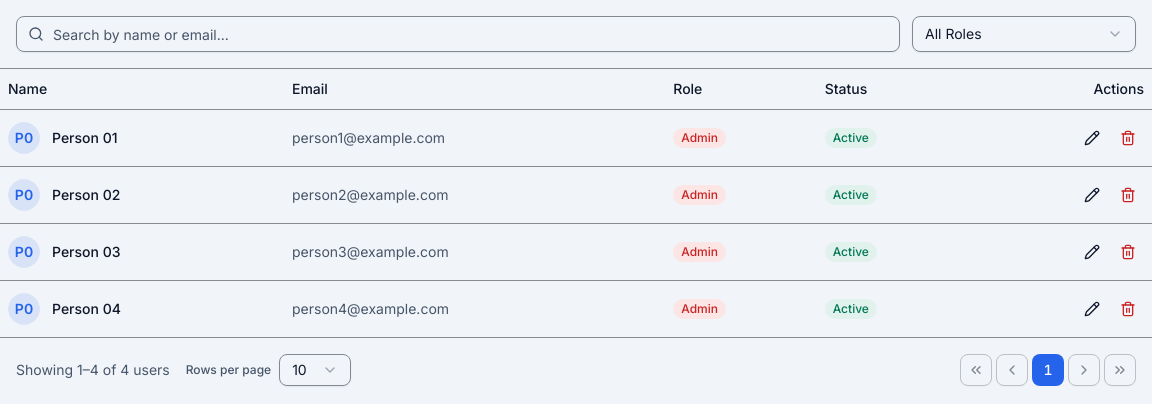
Test: <UserTable> › says nothing matched rather than rendering an empty table
The width and height of the screenshot is (1152, 404).
Click the search field named "Search users".
click(458, 34)  # box [16,16,900,52]
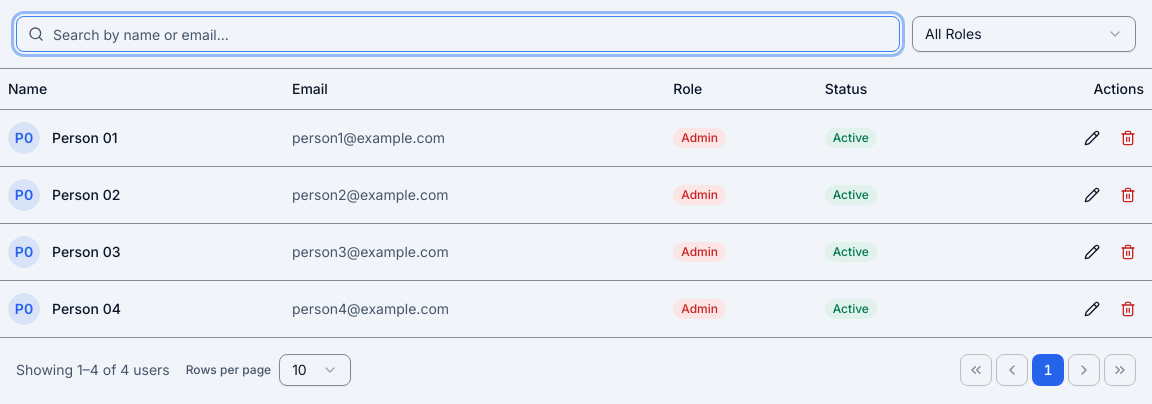
Type keys "nobody by that name"
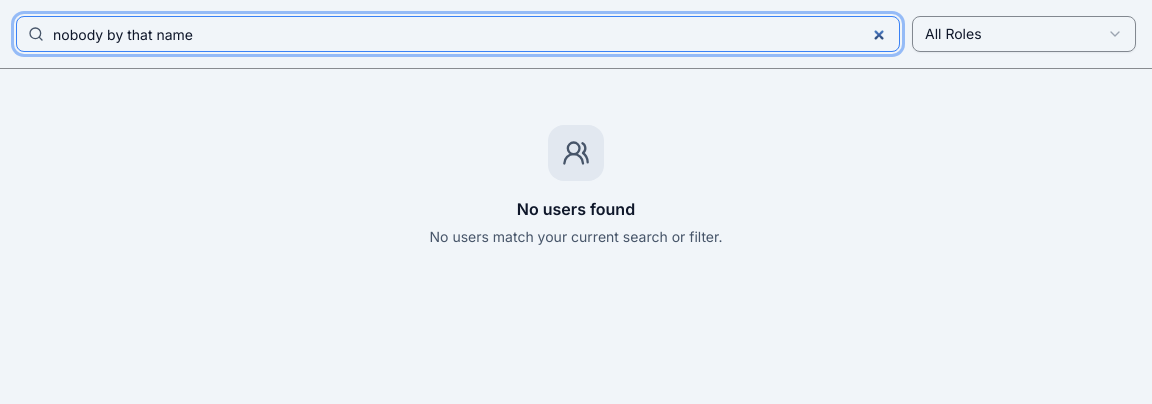
expect the heading "No users found" is shown: met, box [517,197,635,221]
